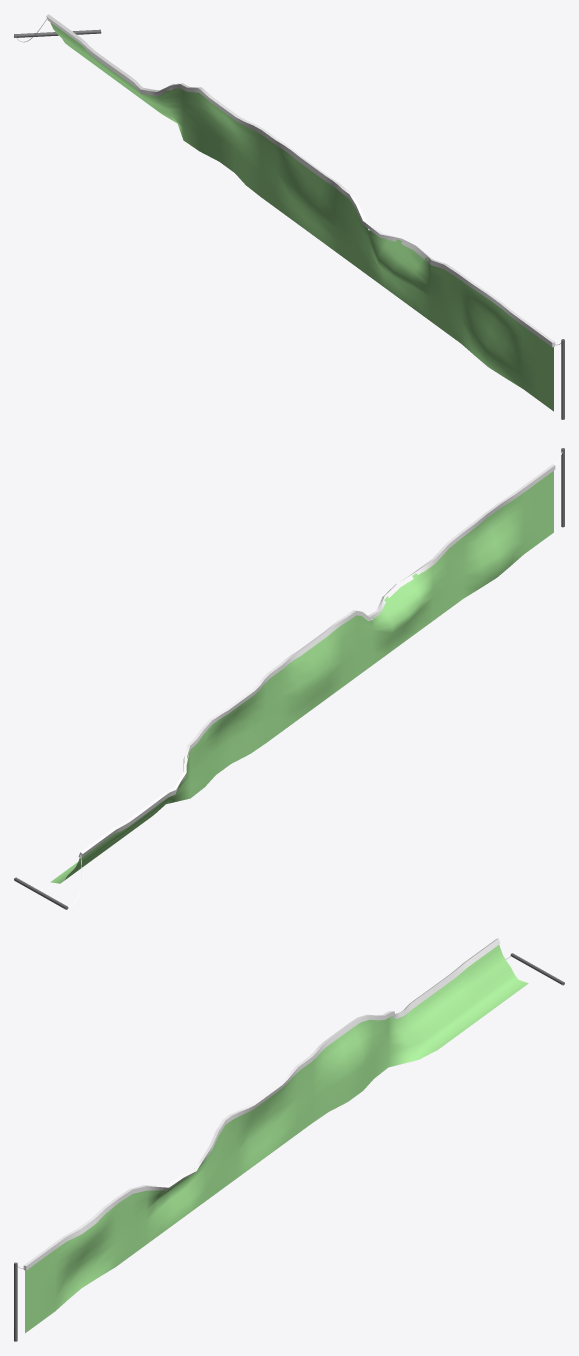
File: ENV_URB_TennisFillet.fbx
The picture shows the model from 3 angles, top to bottom: view 1: azimuth 30°, elevation 25°; view 2: azimuth 150°, elevation 25°; view 3: azimuth 330°, elevation 25°; orthographic projection.
Parts seen in each view (by area): view 1: Box002; view 2: Box002; view 3: Box002.
Part boxes in pixels (x1,y1,x2,y2): Box002: (14,14,564,419); Box002: (14,448,564,909); Box002: (14,938,564,1341).
Bounding box in the file's own units: 101 × 107 × 1298.
